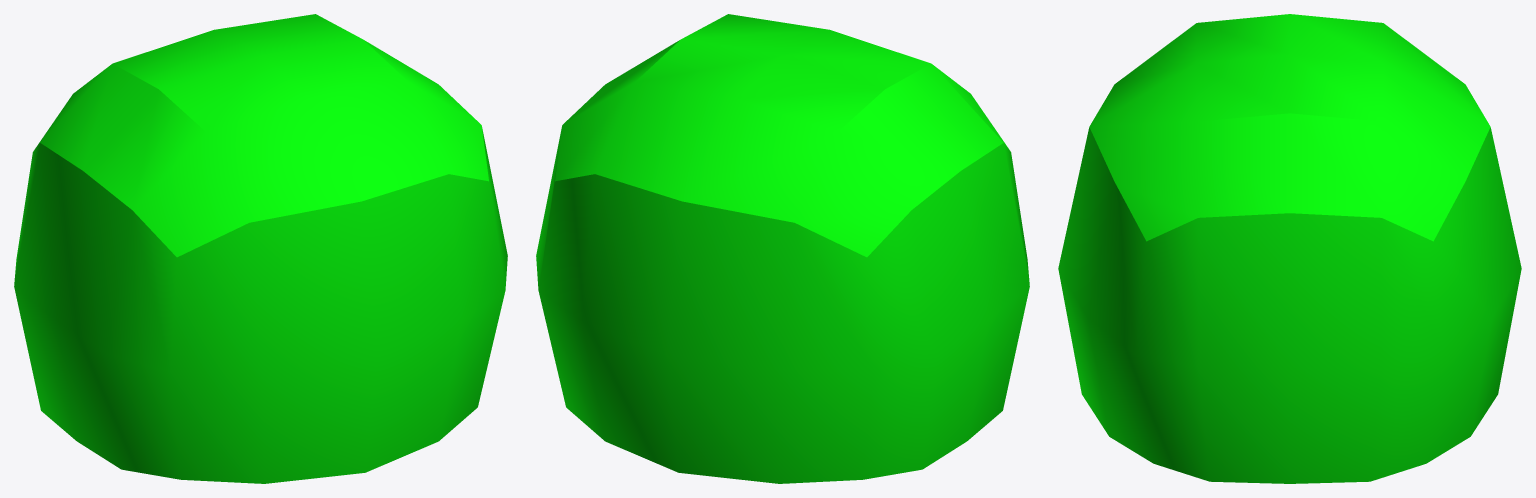
File: bush.fbx
The picture shows the model from 3 angles, left to right: view 1: azimuth 30°, elevation 25°; view 2: azimuth 150°, elevation 25°; view 3: azimuth 270°, elevation 25°; orthographic projection.
Visible parts, largest first — view 1: bush; view 2: bush; view 3: bush.
Boxes of the visible parts, x1,y1,x2,y2 form: bush: (14, 14, 507, 483); bush: (536, 14, 1029, 483); bush: (1058, 14, 1521, 483).
Bounding box in the file's own units: 214 × 179 × 210.
